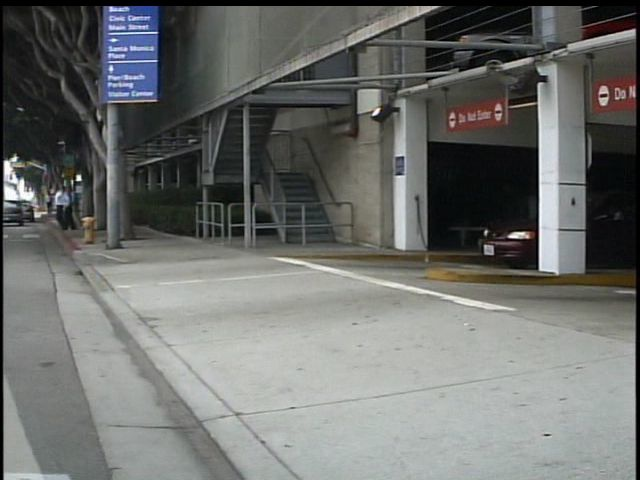person: (46, 186, 63, 220)
